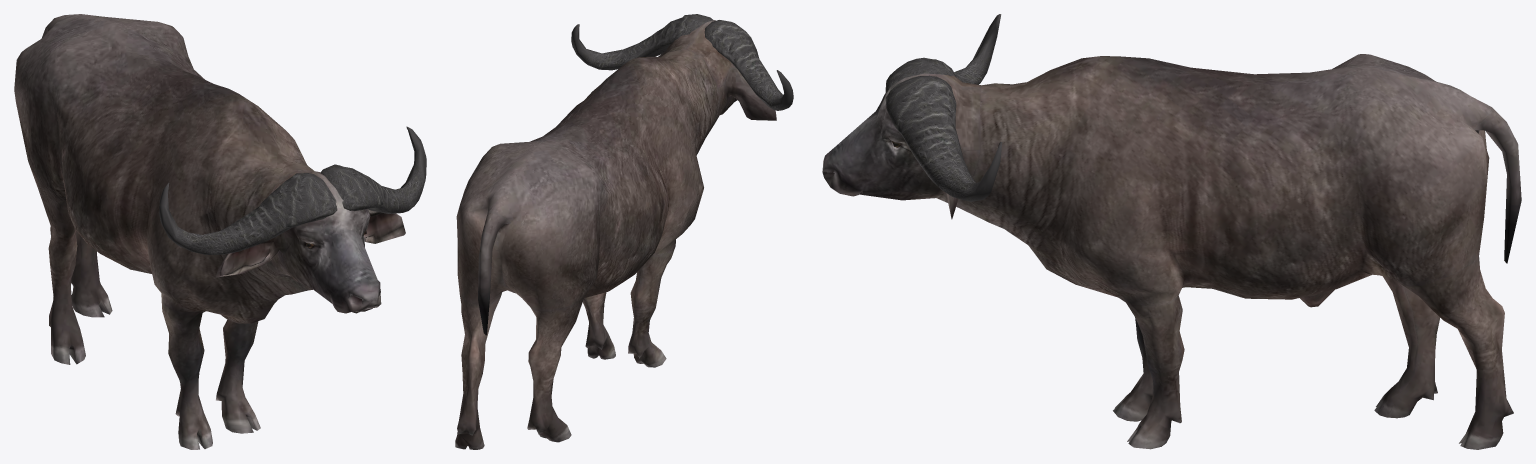
File: buffalo.glb
3 renders of one model, left to right at view 1: azimuth 30°, elevation 25°; view 2: azimuth 150°, elevation 25°; view 3: azimuth 270°, elevation 25°, orthographic. The views are drawn at different scales.
Visible parts, largest first — view 1: Buffalo_Antler_applied_clean_M_Buffalo_0_M_Buffalo_0, Buffalo_Antler_applied_clean_M_Buffalo_Antler_0_M_Buffalo_An; view 2: Buffalo_Antler_applied_clean_M_Buffalo_0_M_Buffalo_0, Buffalo_Antler_applied_clean_M_Buffalo_Antler_0_M_Buffalo_An; view 3: Buffalo_Antler_applied_clean_M_Buffalo_0_M_Buffalo_0, Buffalo_Antler_applied_clean_M_Buffalo_Antler_0_M_Buffalo_An.
Boxes of the visible parts, bbox=[...] form: Buffalo_Antler_applied_clean_M_Buffalo_0_M_Buffalo_0: bbox=[14, 14, 405, 449]; Buffalo_Antler_applied_clean_M_Buffalo_Antler_0_M_Buffalo_An: bbox=[159, 126, 426, 254]; Buffalo_Antler_applied_clean_M_Buffalo_0_M_Buffalo_0: bbox=[455, 20, 776, 449]; Buffalo_Antler_applied_clean_M_Buffalo_Antler_0_M_Buffalo_An: bbox=[571, 14, 793, 110]; Buffalo_Antler_applied_clean_M_Buffalo_0_M_Buffalo_0: bbox=[822, 54, 1521, 449]; Buffalo_Antler_applied_clean_M_Buffalo_Antler_0_M_Buffalo_An: bbox=[885, 14, 1002, 201].
Size of the model in its own units: 1.54 by 1.94 by 3.29.
Materials: 2 (2 with a texture image).
